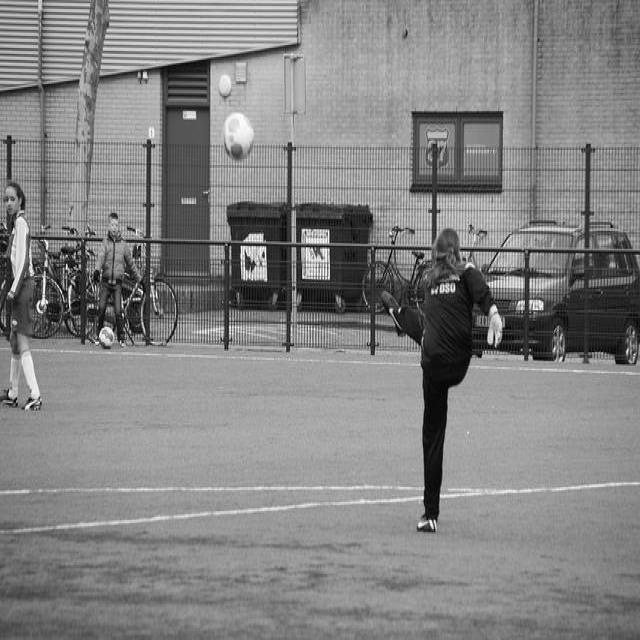vehicle: (483, 226, 640, 366)
